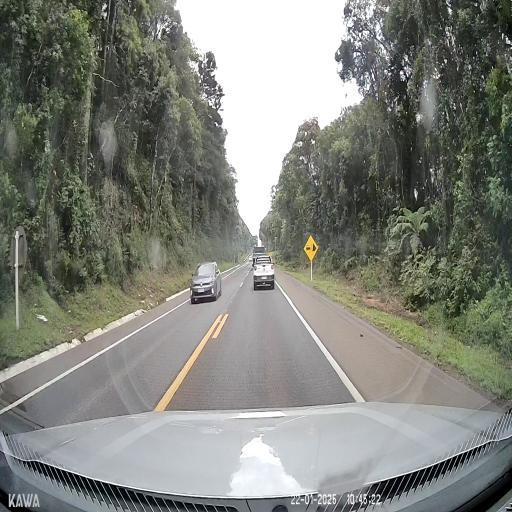A-27: (303, 234, 318, 260)
